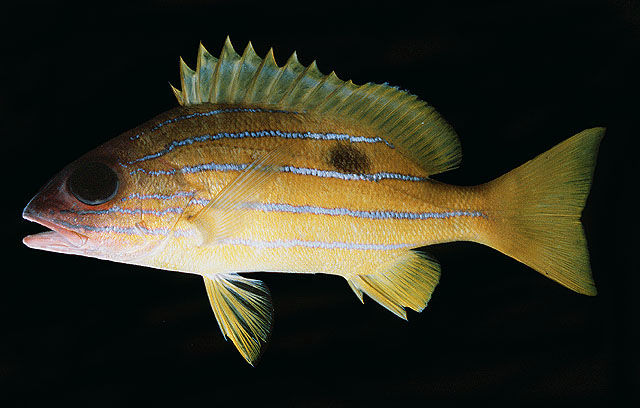fish: (21, 36, 608, 370)
